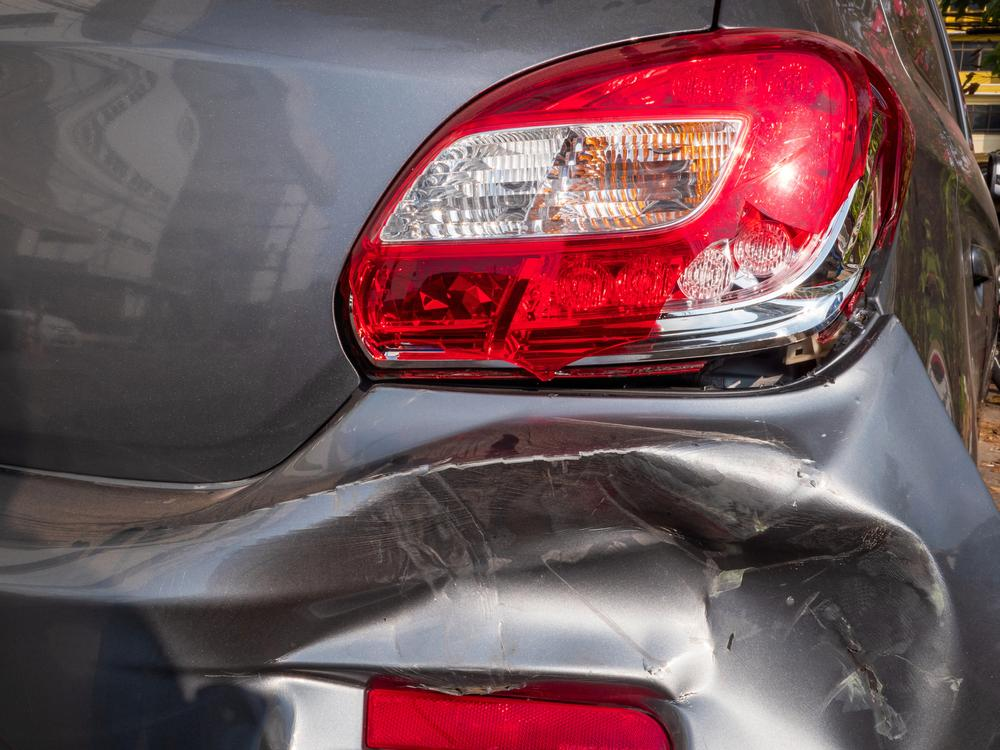dent: (203, 450, 954, 750)
lamp broken: (340, 29, 910, 386)
